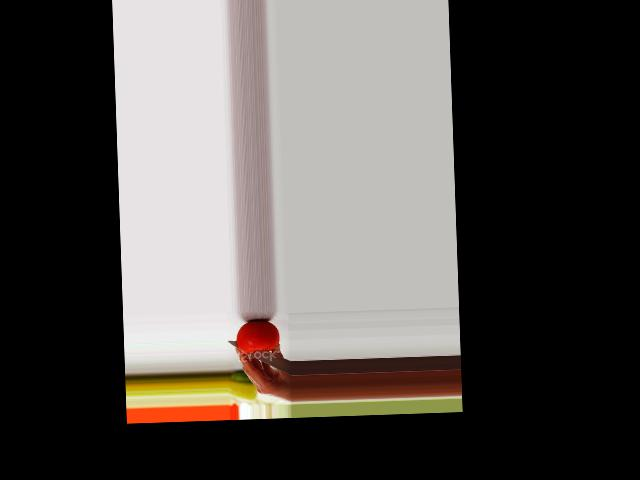tomato: (235, 319, 280, 354)
